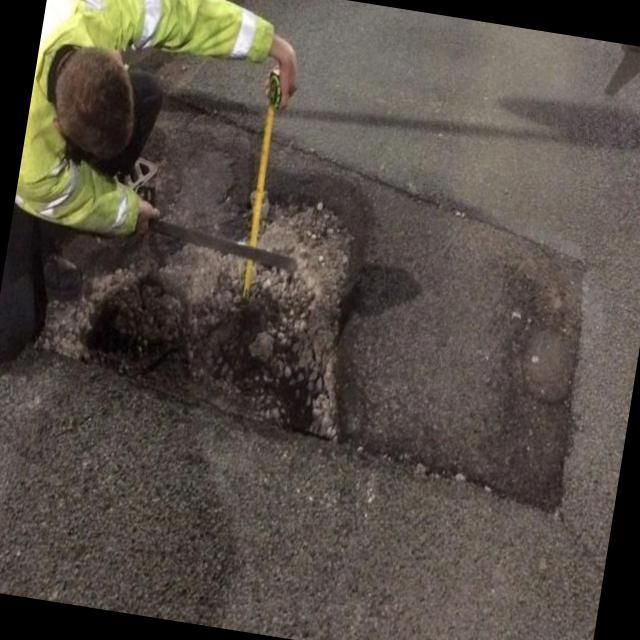Pothole: (81, 206, 353, 439)
